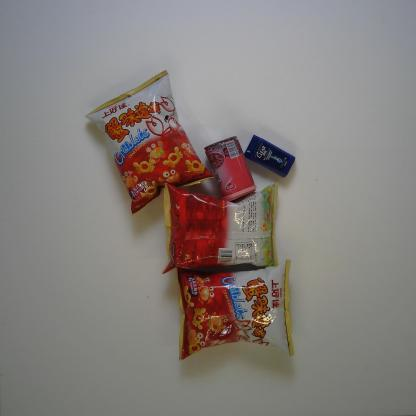Canned Food: (204, 136, 257, 202)
Personal Hygiene: (244, 134, 296, 178)
Puffed Food: (84, 69, 215, 215), (174, 259, 295, 360), (161, 181, 280, 275)
